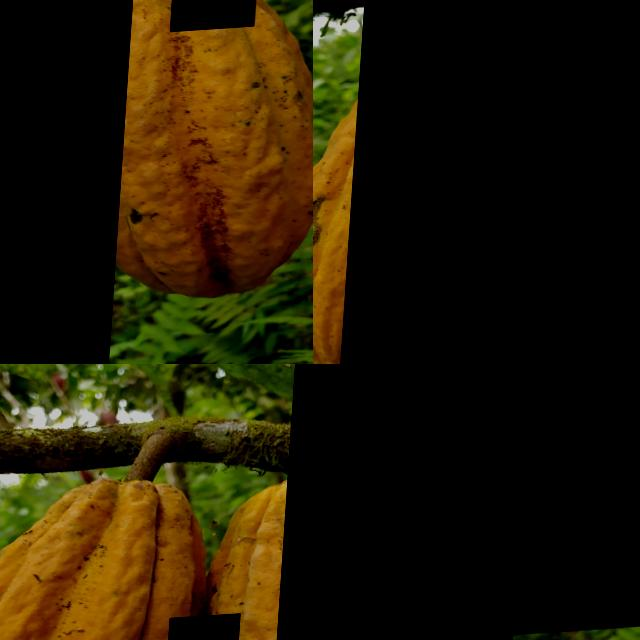Sana: (345, 0, 640, 364), (313, 364, 539, 640), (0, 0, 142, 364), (506, 364, 640, 640), (26, 389, 173, 594), (173, 0, 264, 38)
